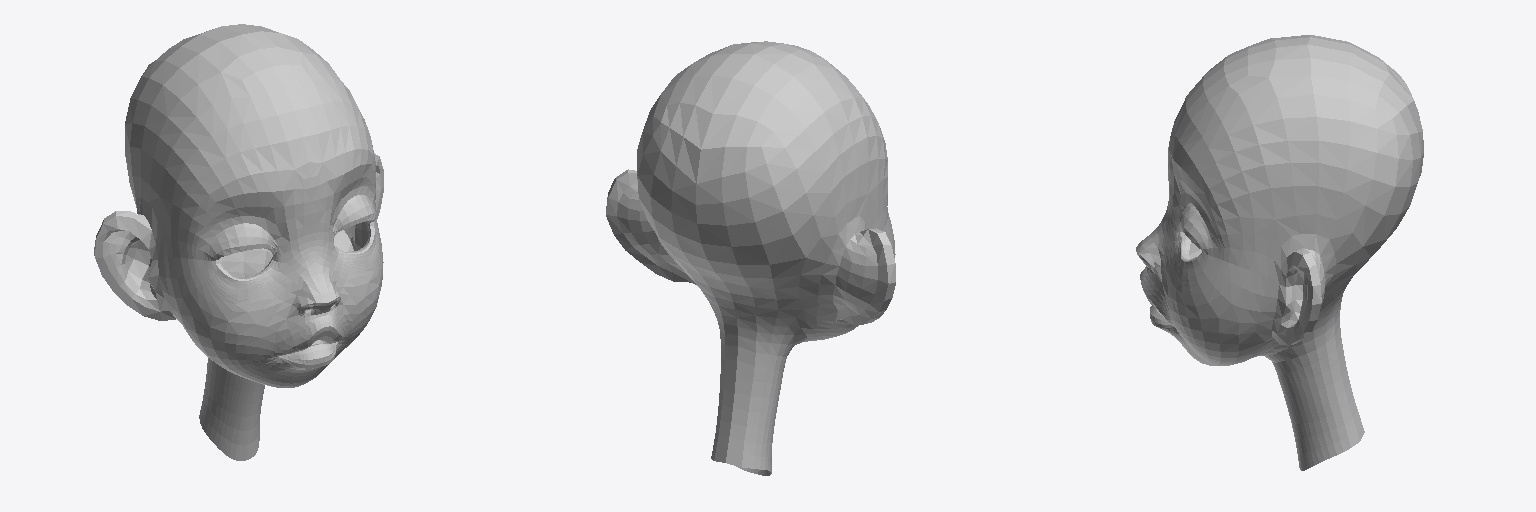
The model's file is upperLipRaiserMid.obj.
The picture shows the model from 3 angles: view 1: azimuth 30°, elevation 25°; view 2: azimuth 150°, elevation 25°; view 3: azimuth 270°, elevation 25°; orthographic projection.
Visible parts, largest first — view 1: ZBrushPolyMesh3D; view 2: ZBrushPolyMesh3D; view 3: ZBrushPolyMesh3D.
Boxes of the visible parts, box(x1,y1,x2,y2) form: ZBrushPolyMesh3D: box(94, 24, 383, 460); ZBrushPolyMesh3D: box(606, 41, 895, 475); ZBrushPolyMesh3D: box(1136, 35, 1423, 470).
Bounding box in the file's own units: 5.74 × 8.03 × 4.96.